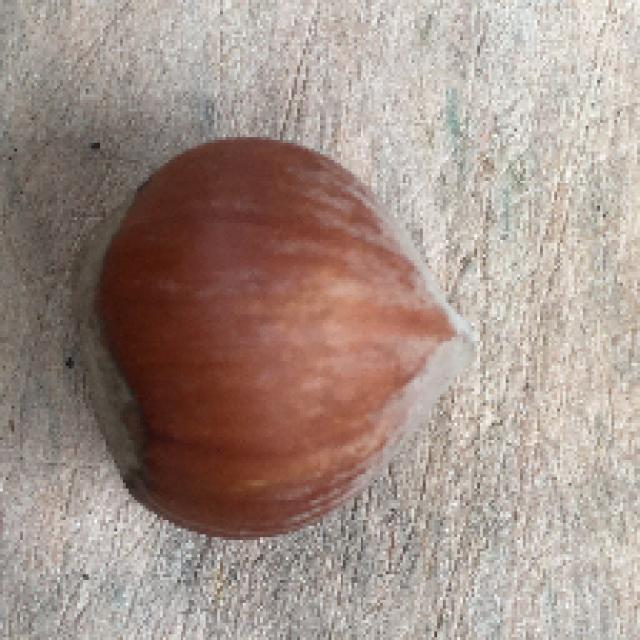qualityHazelnut: (70, 133, 483, 542)
